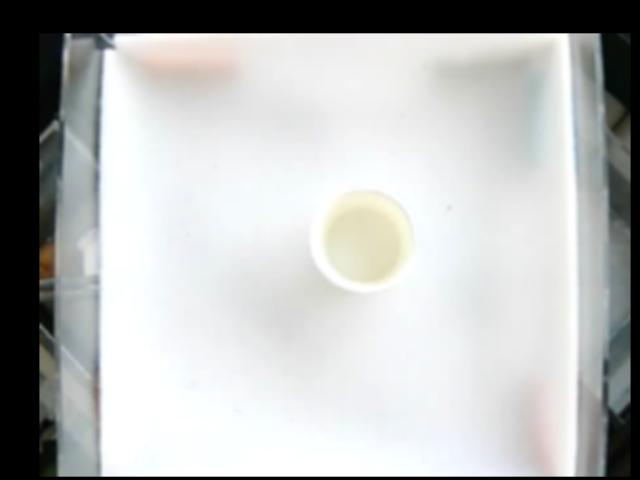Cup: (308, 185, 417, 291)
